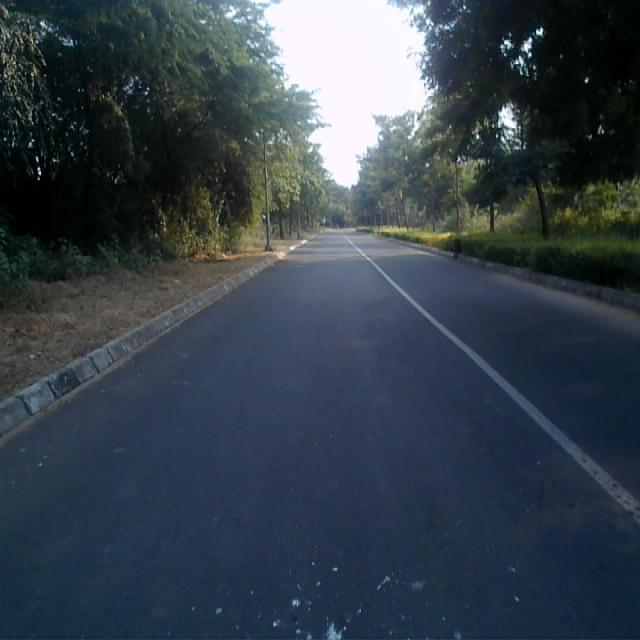lane: (0, 231, 640, 640)
